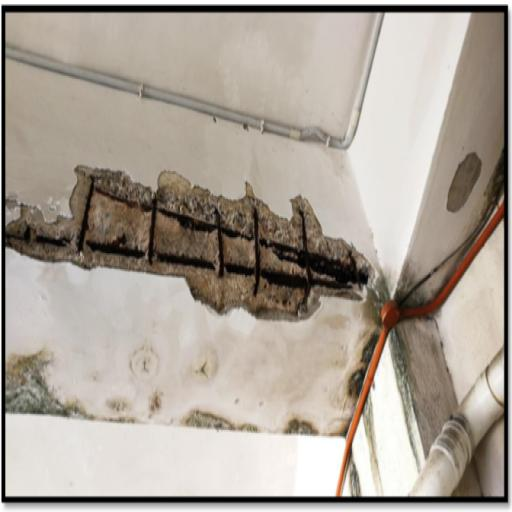spalling: (6, 165, 374, 323)
